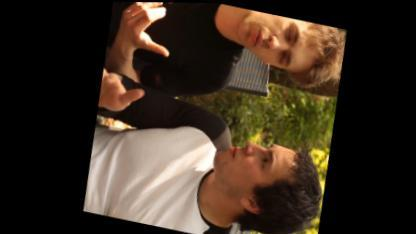knife: (153, 2, 222, 14)
